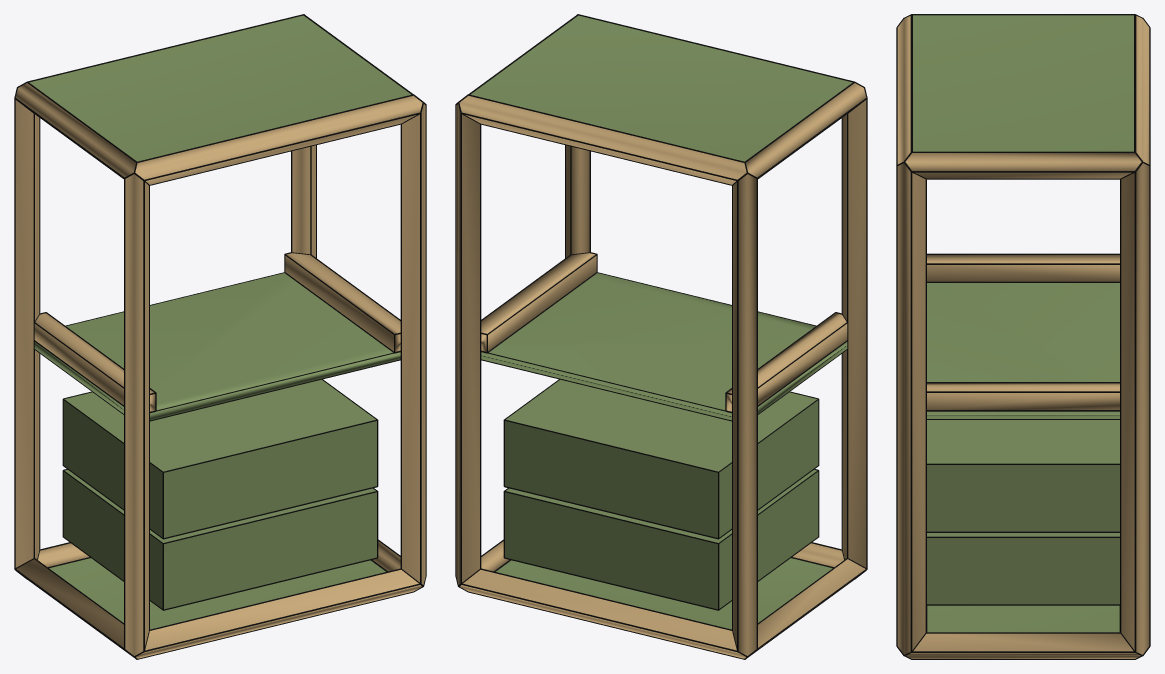
File: 004-commode-petite.glb
3 renders of one model, left to right at view 1: azimuth 30°, elevation 25°; view 2: azimuth 150°, elevation 25°; view 3: azimuth 270°, elevation 25°, orthographic. The views are drawn at different scales.
Visible parts, largest first — view 1: mod-drawer-1, panneau-dessus_exterieur, tablette-plate-mod-0, mod-drawer-0, arete-Z0, arete-Z2, arete-Z1, arete-X2, arete-X0, panneau-dessous, tablette-traverse-right-mod-0, tablette-traverse-left-mod-0 (+17 smaller); view 2: mod-drawer-1, panneau-dessus_exterieur, tablette-plate-mod-0, mod-drawer-0, arete-Z2, arete-Z0, arete-Z3, arete-X3, arete-X1, panneau-dessous, tablette-traverse-right-mod-0, tablette-traverse-left-mod-0 (+17 smaller); view 3: panneau-dessus_exterieur, mod-drawer-1, tablette-plate-mod-0, mod-drawer-0, arete-Z1, arete-Z3, arete-Y3, panneau-dessous, arete-Y1, tablette-traverse-left-mod-0, tablette-traverse-right-mod-0, arete-wire-Z1 (+12 smaller).
Boxes of the visible parts, left/top/right/bottom form: mod-drawer-1: left=63, top=379, right=376, bottom=537; panneau-dessus_exterieur: left=29, top=15, right=411, bottom=161; tablette-plate-mod-0: left=34, top=273, right=400, bottom=420; mod-drawer-0: left=63, top=469, right=376, bottom=609; arete-Z0: left=125, top=174, right=148, bottom=655; arete-Z2: left=15, top=100, right=39, bottom=567; arete-Z1: left=402, top=104, right=425, bottom=584; arete-X2: left=135, top=95, right=422, bottom=184; arete-X0: left=136, top=570, right=421, bottom=658; panneau-dessous: left=49, top=558, right=385, bottom=629; tablette-traverse-right-mod-0: left=285, top=253, right=400, bottom=351; tablette-traverse-left-mod-0: left=34, top=313, right=155, bottom=411; mod-drawer-1: left=505, top=379, right=818, bottom=537; panneau-dessus_exterieur: left=470, top=15, right=852, bottom=161; tablette-plate-mod-0: left=481, top=273, right=847, bottom=420; mod-drawer-0: left=505, top=469, right=818, bottom=609; arete-Z2: left=733, top=174, right=756, bottom=655; arete-Z0: left=842, top=100, right=866, bottom=567; arete-Z3: left=456, top=104, right=479, bottom=584; arete-X3: left=459, top=95, right=746, bottom=184; arete-X1: left=460, top=570, right=745, bottom=658; panneau-dessous: left=496, top=558, right=832, bottom=629; tablette-traverse-right-mod-0: left=481, top=253, right=596, bottom=351; tablette-traverse-left-mod-0: left=726, top=313, right=847, bottom=411; panneau-dessus_exterieur: left=913, top=15, right=1133, bottom=151; mod-drawer-1: left=927, top=420, right=1119, bottom=531; tablette-plate-mod-0: left=927, top=283, right=1119, bottom=418; mod-drawer-0: left=927, top=533, right=1119, bottom=604; arete-Z1: left=897, top=163, right=925, bottom=654; arete-Z3: left=1121, top=163, right=1149, bottom=654; arete-Y3: left=905, top=153, right=1141, bottom=178; panneau-dessous: left=927, top=605, right=1119, bottom=632; arete-Y1: left=906, top=633, right=1140, bottom=658; tablette-traverse-left-mod-0: left=927, top=255, right=1119, bottom=281; tablette-traverse-right-mod-0: left=927, top=383, right=1119, bottom=409; arete-wire-Z1: left=896, top=162, right=926, bottom=652.
Bounding box in the file's own units: 0.5238 × 0.8238 × 0.3738.
